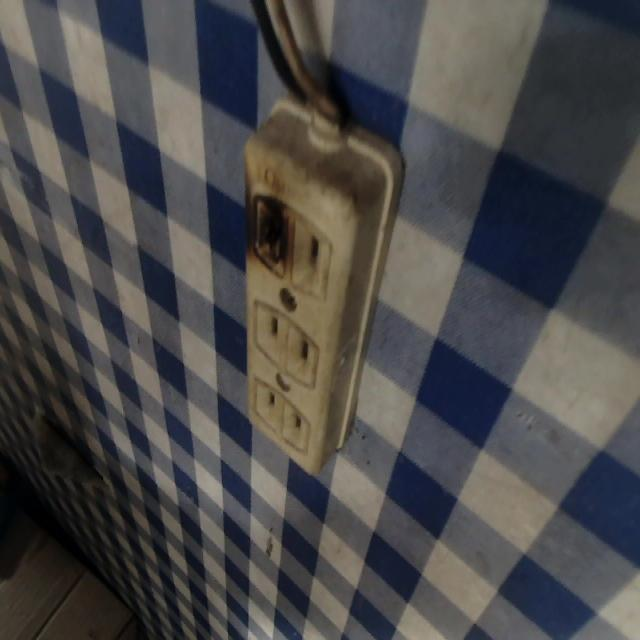-: (240, 183, 295, 289)
